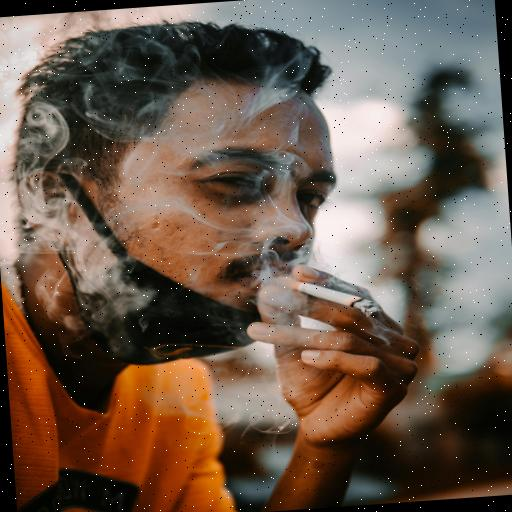dataset-deteksi-merokok: (162, 101, 412, 352)
